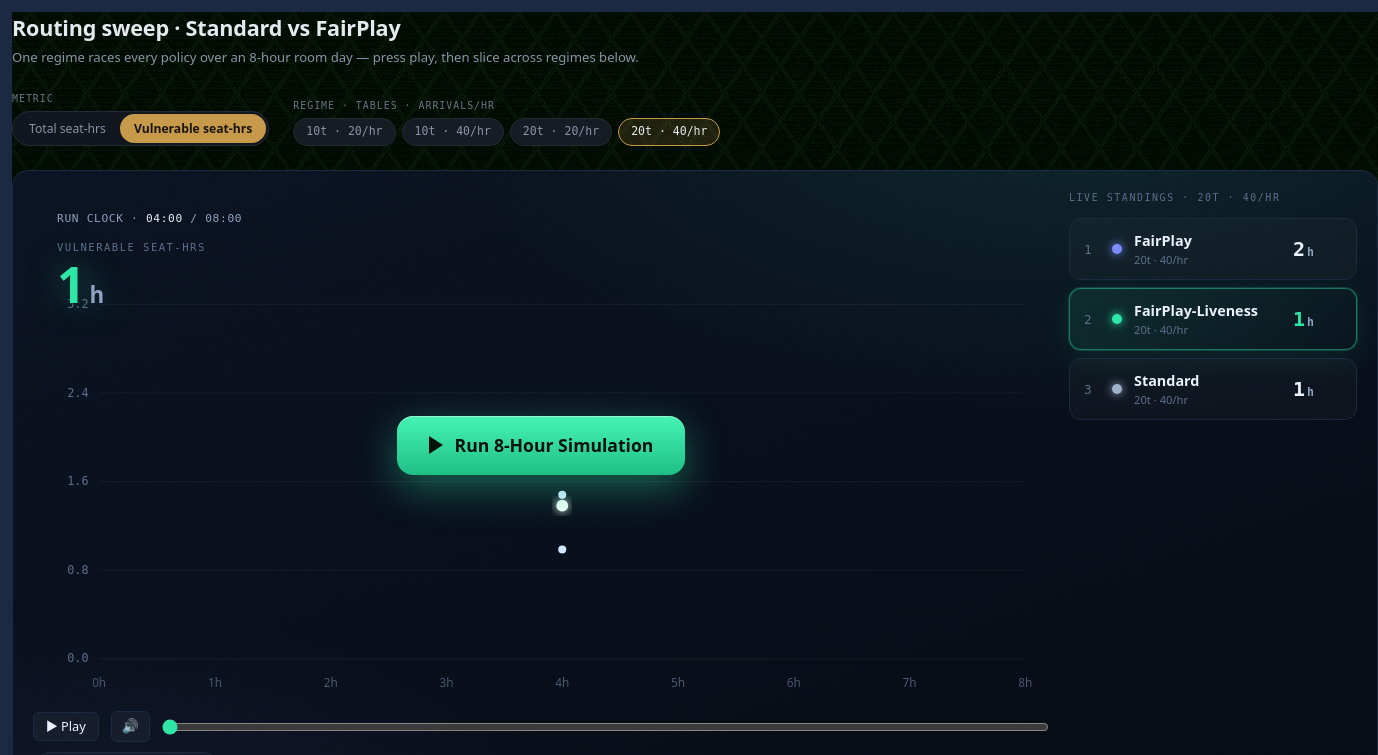
Test: DashboardView render › toggles the race-sound mute control
Step 1. Click the button named "mute race sounds" → (130, 727), box [111,711,150,742]
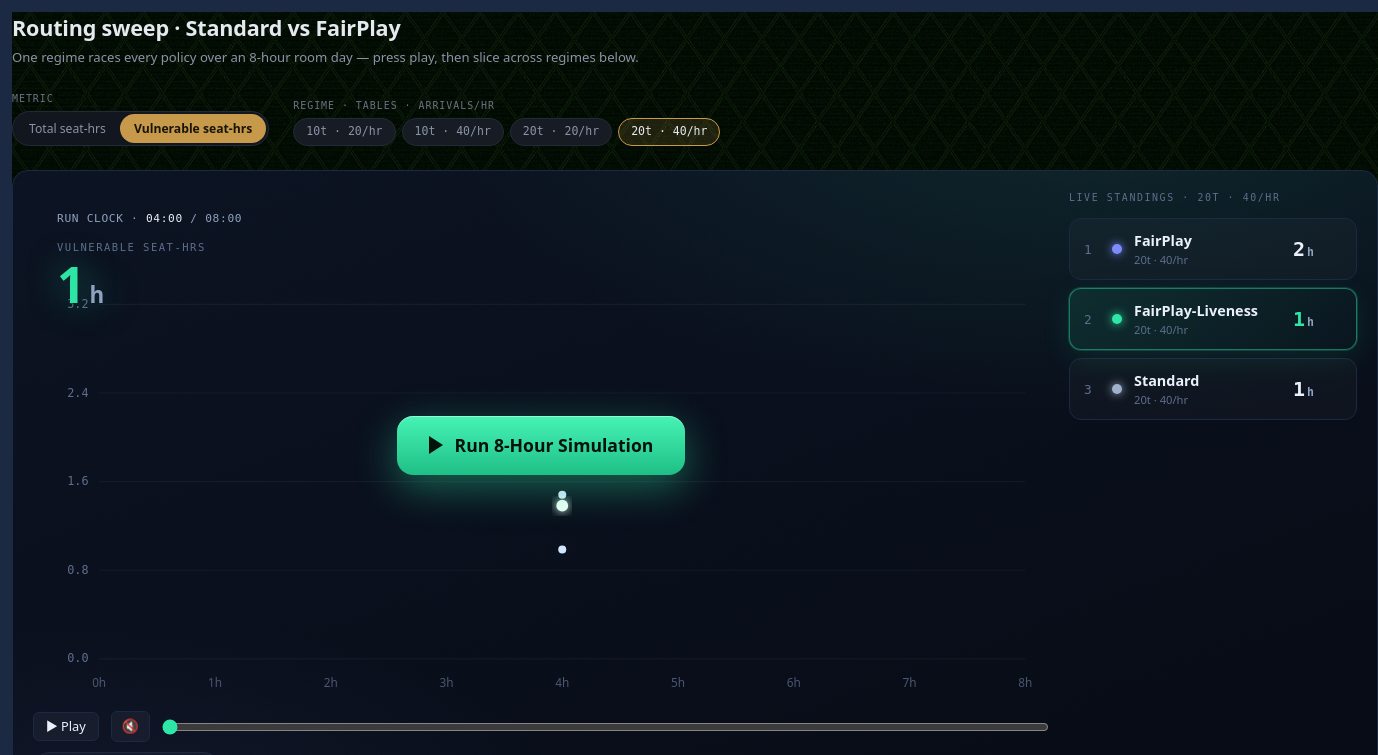
Check: the button named "unmute race sounds" is shown, box [111,711,150,742]
